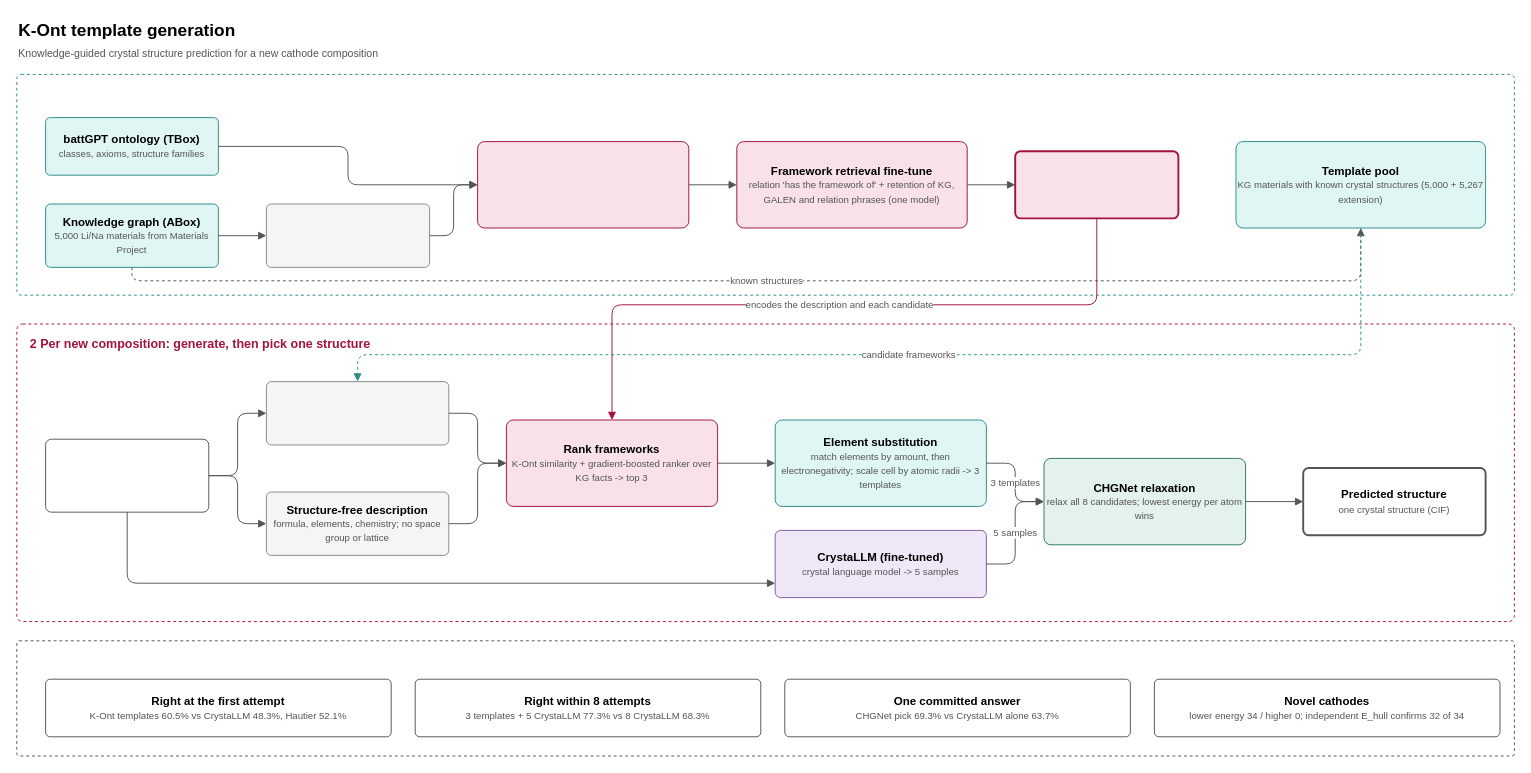
Some shapes in this 1531 by 773 pixel diagram are drawn without their labels. Here are the shapes that lost their labels. From the top down, the box of each, then its label:
(477, 141, 689, 228): K-Ont training OnT objective in a Poincare ball: axiom, typing and relation rows
(16, 73, 1514, 295): 1 Offline: build the knowledge and train K-Ont (once)
(1014, 150, 1179, 219): K-Ont retriever hyperbolic text encoder
(265, 203, 430, 267): Verbalizer each material -> text description
(265, 381, 449, 445): Same-pattern candidates anonymous formula ABCD4 -> LiFePO4, LiMnPO4, ...
(45, 438, 209, 512): Input composition e.g. NaMnPO4 (formula + cell), no structure
(16, 640, 1514, 756): 3 Results (902 held-out materials; 199 novel cathode compositions)
